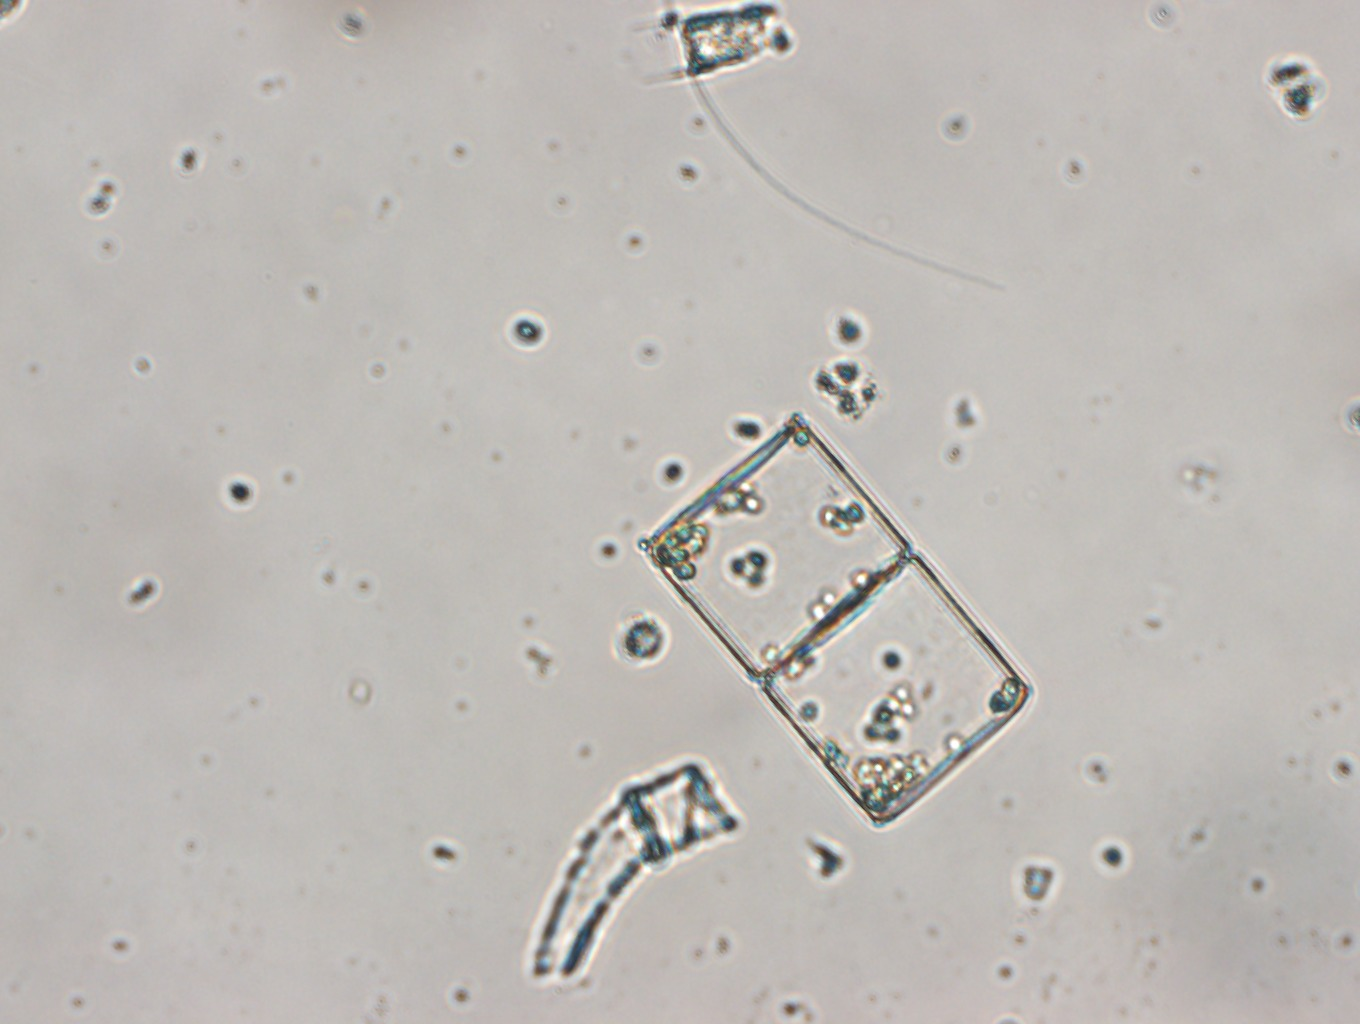guinardia flaccida: (632, 407, 1037, 834)
